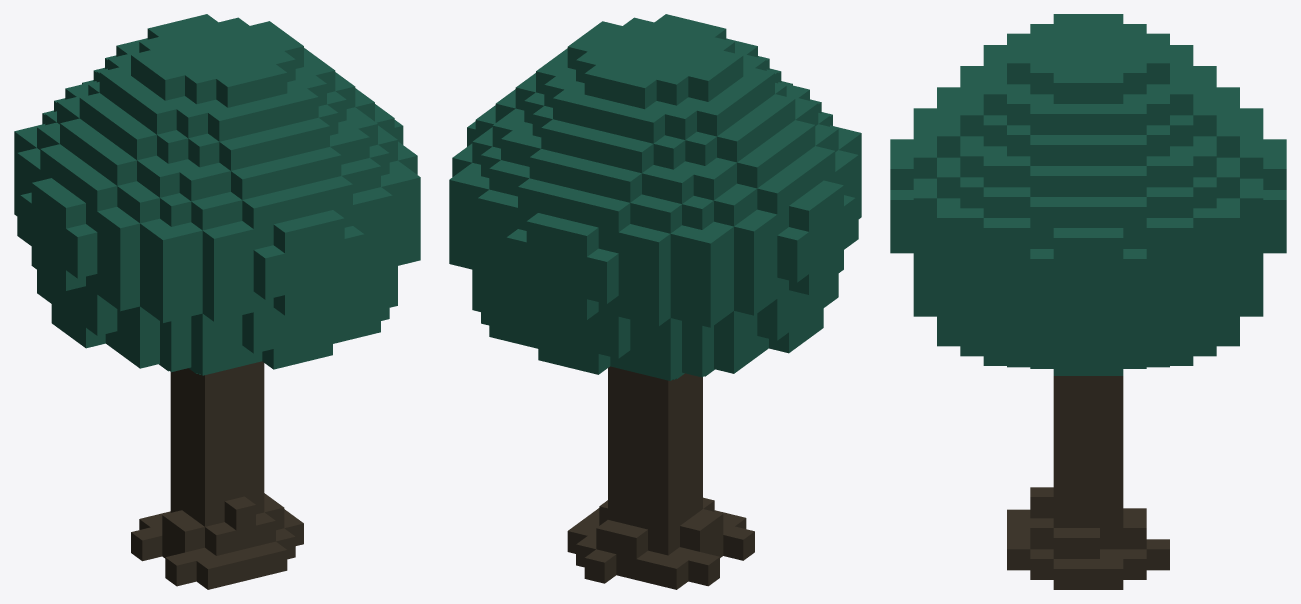
File: tree1_new.obj
The picture shows the model from 3 angles, left to right: view 1: azimuth 30°, elevation 25°; view 2: azimuth 150°, elevation 25°; view 3: azimuth 270°, elevation 25°; orthographic projection.
Size of the model in its own units: 1.7 by 2.4 by 1.7.
Materials: 1 (1 with a texture image).
